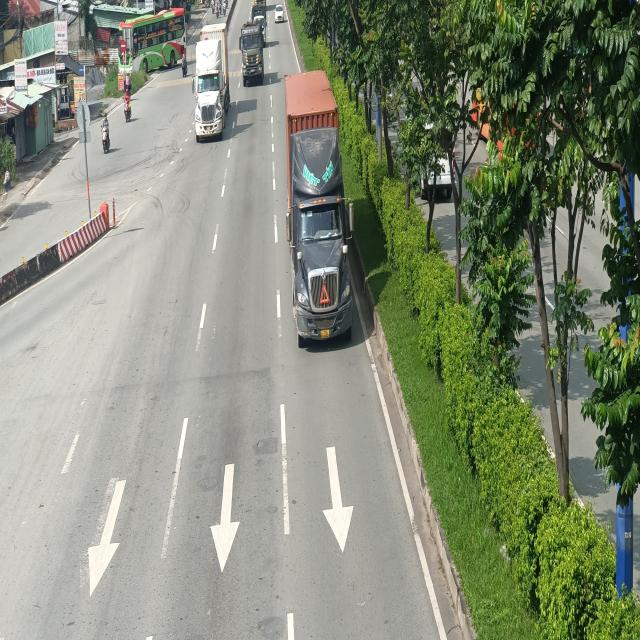car: (274, 3, 285, 26)
coach: (119, 6, 186, 69)
container: (284, 71, 356, 348), (193, 26, 226, 142), (239, 21, 264, 89)
